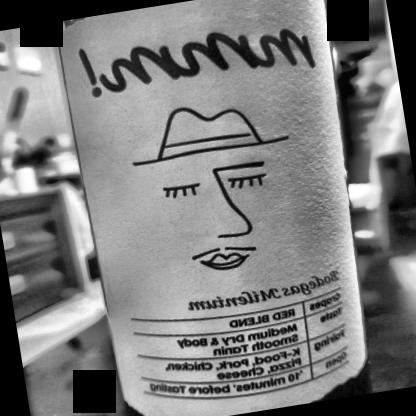umm: (56, 0, 388, 415)
